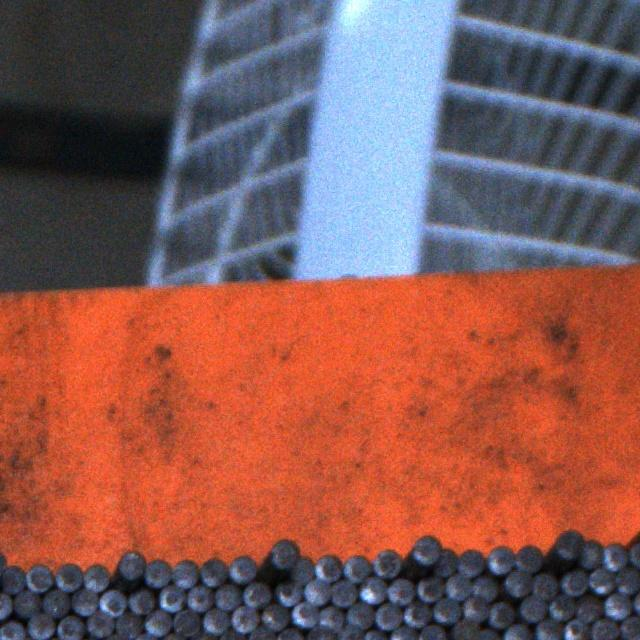tool: (372, 549, 402, 579), (270, 537, 300, 567), (411, 535, 440, 565), (554, 528, 582, 559), (54, 563, 82, 592), (24, 562, 52, 591), (456, 548, 484, 577), (199, 558, 227, 586), (514, 544, 542, 572), (342, 553, 370, 581), (230, 554, 258, 582), (230, 604, 258, 632), (87, 610, 115, 638), (504, 570, 532, 598), (314, 552, 341, 581), (41, 589, 68, 618), (172, 559, 199, 588), (84, 562, 111, 591), (26, 613, 54, 640), (486, 546, 513, 574), (331, 580, 358, 608), (357, 576, 384, 604), (212, 583, 240, 610), (404, 600, 431, 628), (72, 588, 99, 616), (98, 589, 125, 617), (173, 608, 200, 636), (145, 608, 173, 635), (374, 601, 401, 629), (346, 601, 374, 628), (116, 612, 143, 640), (146, 558, 172, 587), (118, 549, 144, 578), (602, 540, 627, 570), (432, 597, 459, 624), (14, 590, 41, 617), (303, 579, 330, 606), (386, 578, 413, 605), (575, 594, 602, 621), (519, 594, 545, 622), (560, 569, 588, 595), (531, 572, 557, 600), (488, 601, 516, 627), (128, 589, 156, 615), (548, 592, 574, 620), (274, 580, 302, 606), (579, 540, 605, 568), (188, 585, 214, 612), (444, 574, 471, 600), (242, 583, 269, 609), (416, 576, 443, 602), (290, 600, 317, 626), (261, 603, 288, 629), (605, 593, 631, 620), (470, 574, 497, 600), (615, 567, 640, 595), (0, 563, 23, 593), (159, 586, 185, 612), (588, 568, 614, 594), (463, 596, 489, 622), (57, 615, 84, 640), (291, 556, 315, 584), (434, 548, 458, 576), (203, 608, 228, 634), (320, 605, 345, 630), (562, 618, 589, 640), (535, 618, 562, 640), (590, 619, 618, 640), (452, 619, 479, 640), (0, 619, 25, 640), (619, 617, 640, 640), (504, 624, 532, 640), (308, 624, 336, 640), (419, 624, 446, 640), (337, 625, 364, 640), (249, 626, 277, 640), (391, 626, 418, 640), (276, 627, 304, 640), (628, 538, 640, 568), (0, 592, 12, 620), (478, 627, 502, 640), (217, 629, 245, 640), (361, 629, 386, 640), (187, 632, 215, 640), (632, 590, 640, 617), (160, 633, 188, 640), (131, 633, 158, 640), (101, 633, 127, 640), (0, 549, 7, 573)
